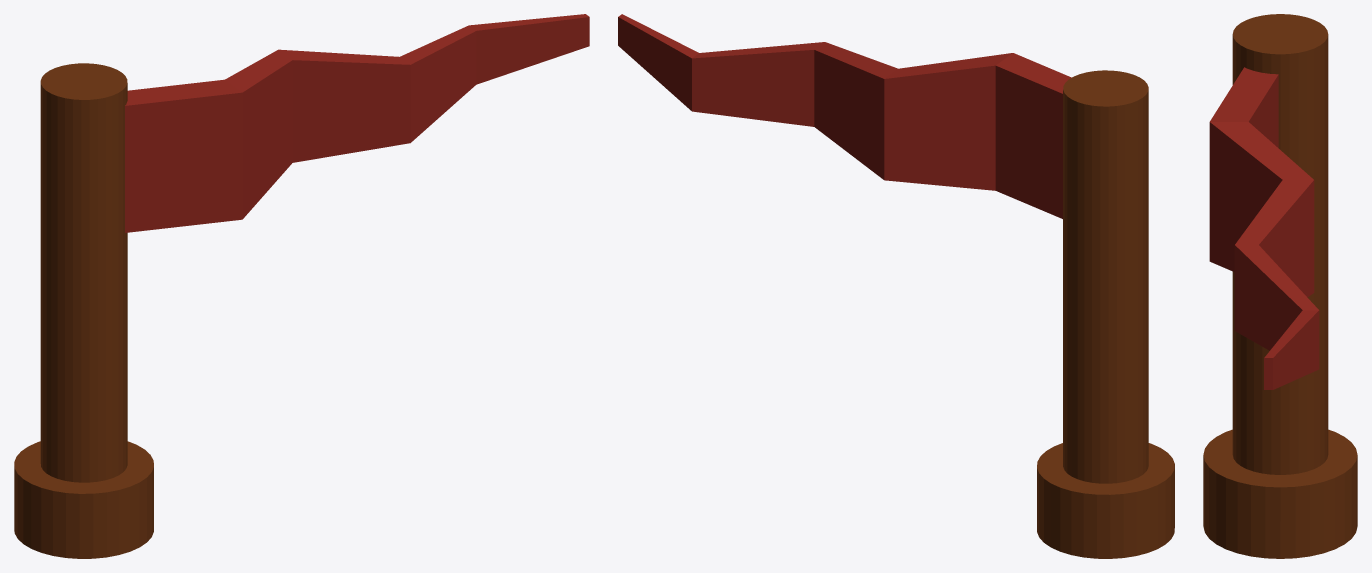
The model's file is flag.fbx.
The picture shows the model from 3 angles, left to right: view 1: azimuth 30°, elevation 25°; view 2: azimuth 150°, elevation 25°; view 3: azimuth 270°, elevation 25°; orthographic projection. The views are drawn at different scales.
Visible parts, largest first — view 1: Cylinder; view 2: Cylinder; view 3: Cylinder.
Part boxes in pixels (left/top/right/bottom): Cylinder: left=14, top=14, right=589, bottom=558; Cylinder: left=618, top=14, right=1174, bottom=558; Cylinder: left=1203, top=14, right=1357, bottom=558.
Size of the model in its own units: 921 by 705 by 200.
